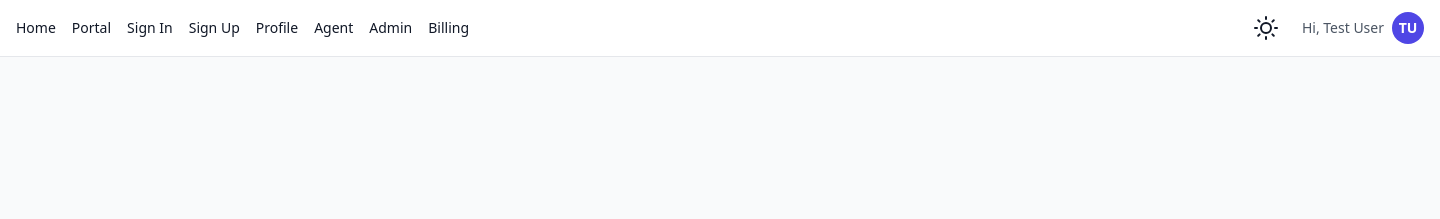
Test: Navbar › renders links and toggles user menu
Open menu
Click the button "Hi, Test User TU". click: (1363, 28)
box: x1=1302 y1=12 x2=1424 y2=44
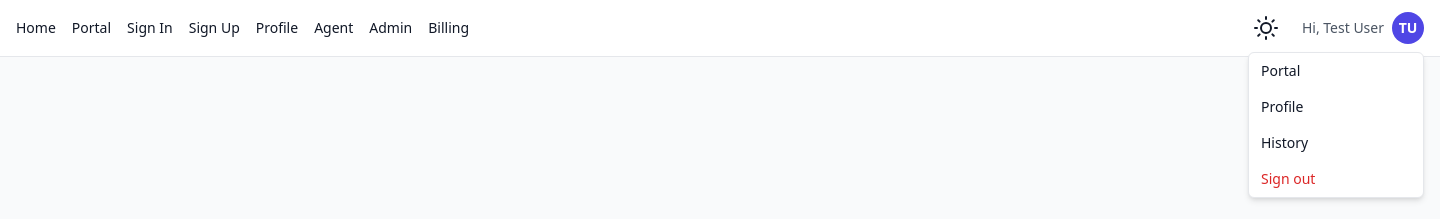
Expected: the link "History" is shown, x1=1261 y1=133 x2=1308 y2=152
